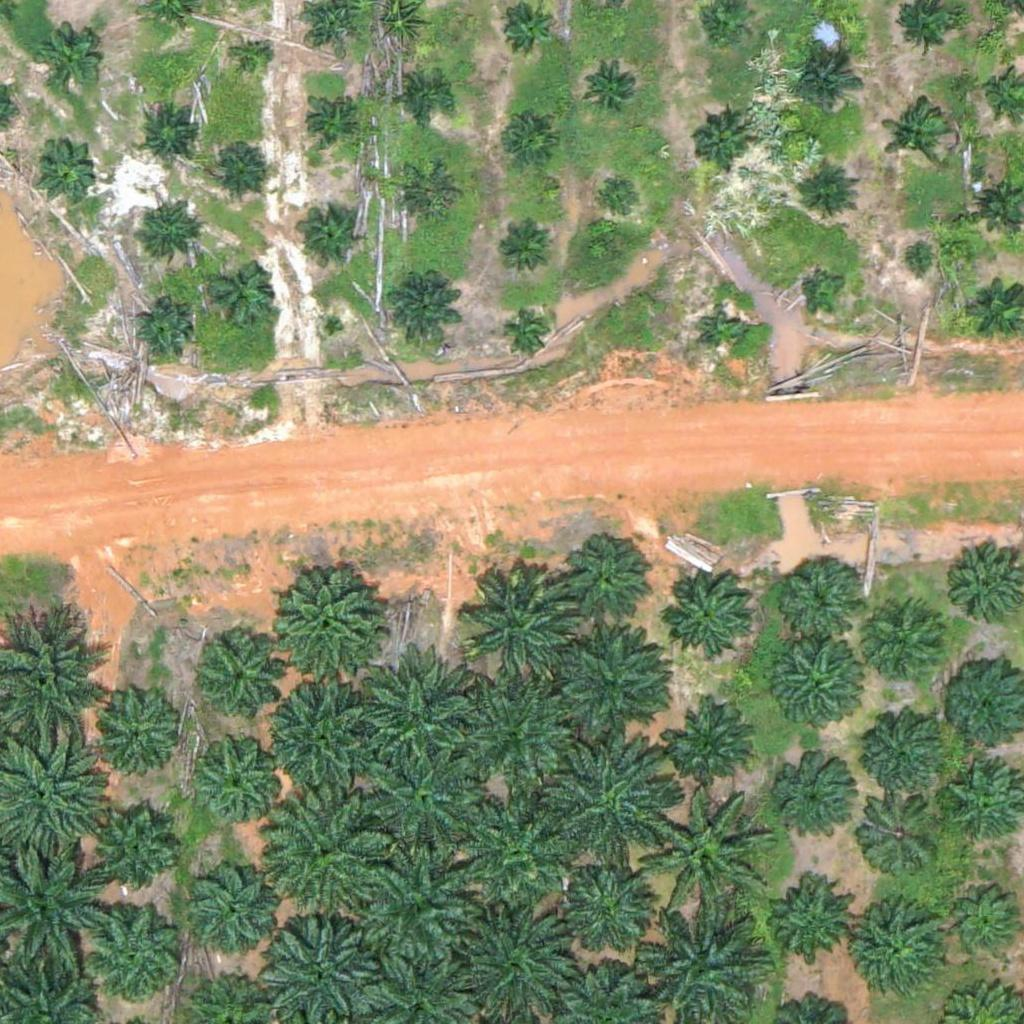Kelapa_Sawit: (460, 561, 585, 687), (452, 669, 577, 795), (457, 797, 582, 923), (358, 846, 483, 972), (363, 738, 488, 864), (357, 658, 482, 784), (261, 678, 386, 804), (542, 740, 667, 866), (639, 793, 764, 919), (272, 789, 397, 914), (546, 619, 671, 744), (266, 564, 379, 678), (84, 909, 184, 1010), (86, 680, 186, 780), (852, 905, 952, 1005), (191, 859, 279, 947), (567, 865, 655, 953), (770, 644, 858, 732), (775, 759, 863, 847), (763, 871, 851, 959), (667, 697, 754, 786), (773, 552, 860, 640), (860, 706, 947, 794), (198, 736, 285, 824), (197, 637, 284, 725), (91, 809, 178, 897), (564, 542, 651, 630), (662, 568, 749, 656), (855, 787, 942, 875), (863, 598, 950, 686), (385, 269, 460, 345), (199, 256, 274, 332), (881, 99, 956, 175), (790, 48, 865, 123), (35, 27, 98, 90), (584, 55, 647, 118), (132, 204, 195, 267), (31, 136, 94, 199), (299, 205, 362, 268), (131, 301, 194, 364), (798, 166, 861, 229), (690, 114, 753, 177), (398, 164, 460, 227), (139, 106, 201, 168), (206, 134, 268, 196), (499, 2, 549, 53), (503, 115, 553, 166), (803, 264, 853, 315), (697, 306, 747, 357), (596, 173, 646, 224), (399, 73, 449, 123), (498, 226, 548, 276), (303, 96, 353, 146), (504, 307, 554, 357), (898, 242, 936, 280), (235, 42, 273, 80)
